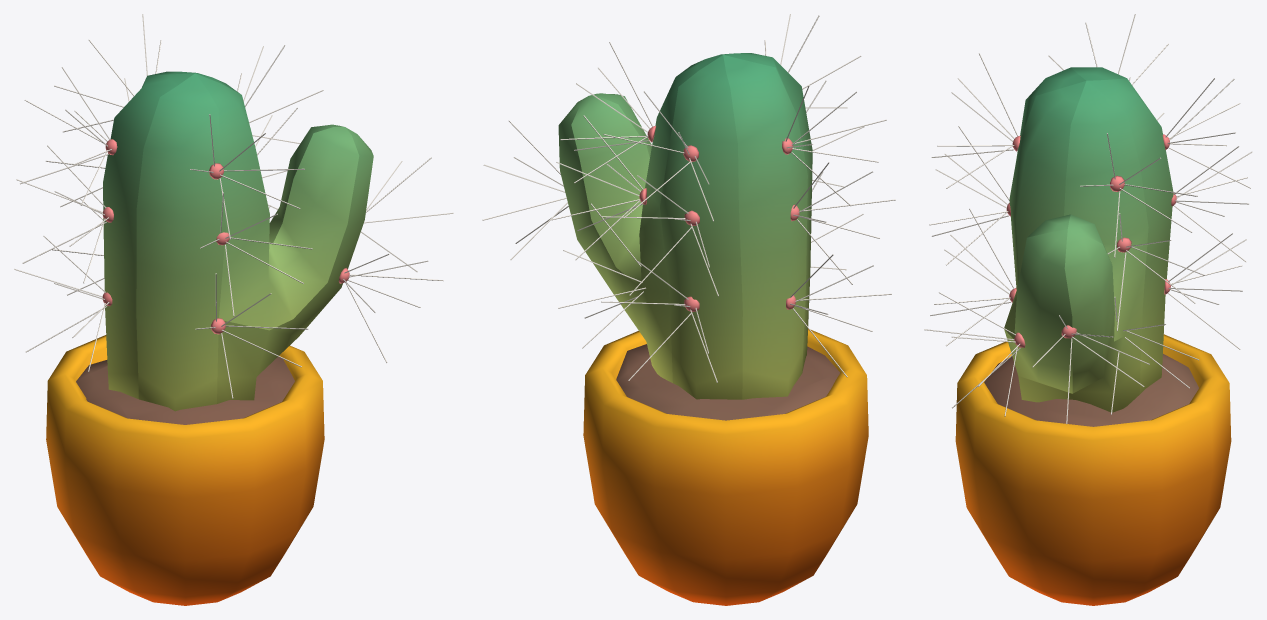
The model's file is Cactus_1.fbx.
3 renders of one model, left to right at view 1: azimuth 30°, elevation 25°; view 2: azimuth 150°, elevation 25°; view 3: azimuth 270°, elevation 25°, orthographic. The views are drawn at different scales.
Visible parts, largest first — view 1: Cactus_1; view 2: Cactus_1; view 3: Cactus_1.
Part boxes in pixels (<box>): Cactus_1: <box>14,14,453,605</box>; Cactus_1: <box>482,14,895,605</box>; Cactus_1: <box>924,14,1252,605</box>.
Size of the model in its own units: 0.4854 by 0.6328 by 0.3653.
